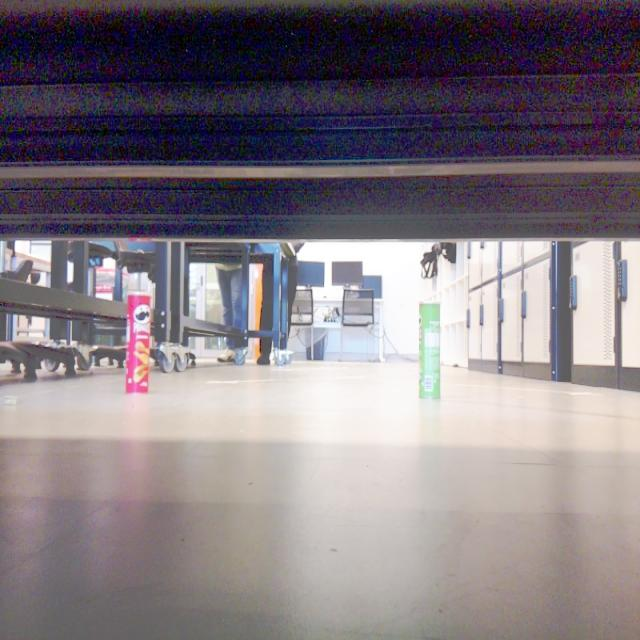greenpringles: (400, 287, 452, 411)
redpringles: (113, 278, 165, 401)
